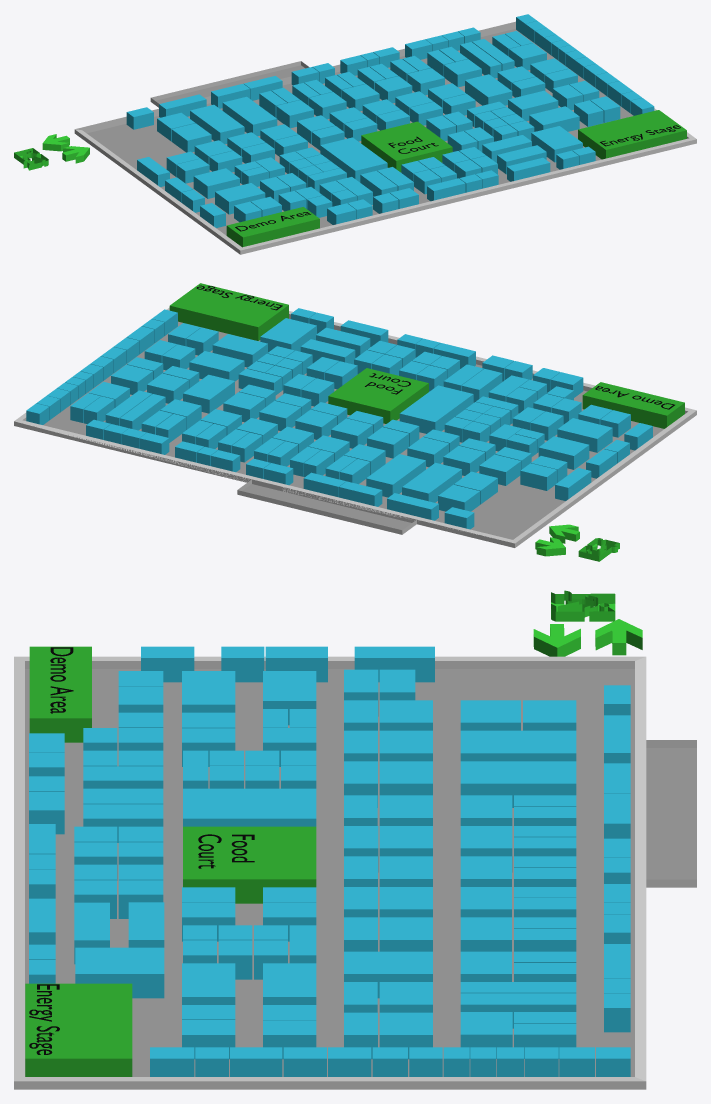
File: MainExhibitionHall.glb
3 views of the same model, one above another, from view 1: azimuth 30°, elevation 25°; view 2: azimuth 150°, elevation 25°; view 3: azimuth 270°, elevation 25° (orthographic). The views are drawn at different scales.
Parts seen in each view (by area): view 1: Logistikk porter_curve_, Logistikk porter_curve_.001, Energy_stage.B-1350, Food_Court.B-4050, Demo_Area.B-1600, BOOTHLAYER_curve_.B-4040, Emergency Exit_curve_.002, BOOTHLAYER_curve_.B-2035, BOOTHLAYER_curve_.B-2025, BOOTHLAYER_curve_.B-5100, BOOTHLAYER_curve_.B-3100, BOOTHLAYER_curve_.B-4120 (+72 smaller); view 2: Logistikk porter_curve_.001, Logistikk porter_curve_, Energy_stage.B-1350, Food_Court.B-4050, Demo_Area.B-1600, BOOTHLAYER_curve_.B-4040, Emergency Exit_curve_.002, BOOTHLAYER_curve_.B-2035, BOOTHLAYER_curve_.B-2025, BOOTHLAYER_curve_.B-3100, BOOTHLAYER_curve_.B-5100, BOOTHLAYER_curve_.B-4002 (+70 smaller); view 3: Logistikk porter_curve_.001, Logistikk porter_curve_, Energy_stage.B-1350, Food_Court.B-4050, Demo_Area.B-1600, BOOTHLAYER_curve_.B-4040, Emergency Exit_curve_.002, BOOTHLAYER_curve_.B-2035, BOOTHLAYER_curve_.B-5100, BOOTHLAYER_curve_.B-2025, BOOTHLAYER_curve_.B-3100, BOOTHLAYER_curve_.B-4002 (+111 smaller).
Part boxes in pixels (x1,y1,x2,y2): Logistikk porter_curve_: (74,21,696,254); Logistikk porter_curve_.001: (87,28,633,235); Energy_stage.B-1350: (578,110,686,159); Food_Court.B-4050: (361,121,452,172); Demo_Area.B-1600: (226,207,319,247); BOOTHLAYER_curve_.B-4040: (320,137,387,182); Emergency Exit_curve_.002: (14,134,89,170); BOOTHLAYER_curve_.B-2035: (222,96,277,136); BOOTHLAYER_curve_.B-2025: (190,104,244,144); BOOTHLAYER_curve_.B-5100: (531,126,582,162); BOOTHLAYER_curve_.B-3100: (465,74,512,105); BOOTHLAYER_curve_.B-4120: (529,106,579,131); Logistikk porter_curve_.001: (43,318,663,539); Logistikk porter_curve_: (14,307,696,547); Energy_stage.B-1350: (169,283,288,340); Food_Court.B-4050: (328,368,428,423); Demo_Area.B-1600: (582,382,684,428); BOOTHLAYER_curve_.B-4040: (399,385,473,433); Emergency Exit_curve_.002: (535,524,619,561); BOOTHLAYER_curve_.B-2035: (366,454,425,497); BOOTHLAYER_curve_.B-2025: (402,462,461,502); BOOTHLAYER_curve_.B-3100: (183,374,234,413); BOOTHLAYER_curve_.B-5100: (260,318,316,352); BOOTHLAYER_curve_.B-4002: (557,418,612,452); Logistikk porter_curve_.001: (25,669,696,1076); Logistikk porter_curve_: (14,656,696,1089); Energy_stage.B-1350: (25,983,132,1076); Food_Court.B-4050: (183,826,316,903); Demo_Area.B-1600: (29,646,91,742); BOOTHLAYER_curve_.B-4040: (183,788,316,826); Emergency Exit_curve_.002: (533,590,642,656); BOOTHLAYER_curve_.B-2035: (460,761,576,807); BOOTHLAYER_curve_.B-5100: (75,947,164,998); BOOTHLAYER_curve_.B-2025: (460,730,576,761); BOOTHLAYER_curve_.B-3100: (344,951,432,998); BOOTHLAYER_curve_.B-4002: (182,671,235,712).
Bounding box in the file's own units: 131 × 3.66 × 76.73.
